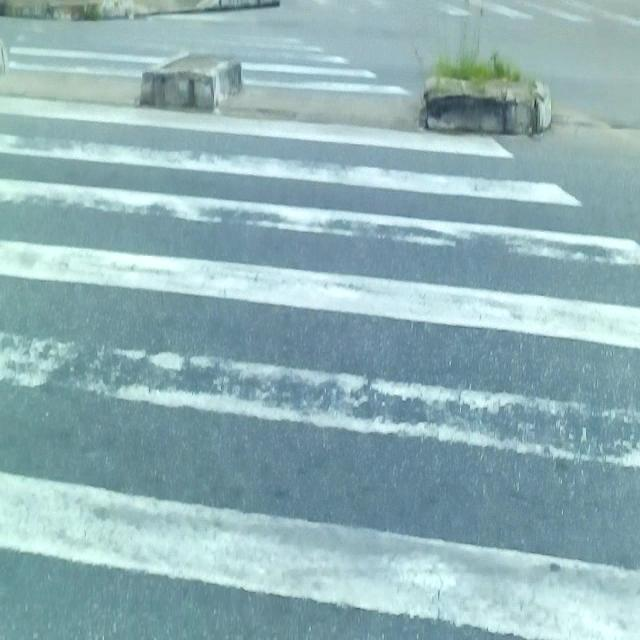crosswalk: (0, 9, 640, 640), (276, 0, 640, 27)
